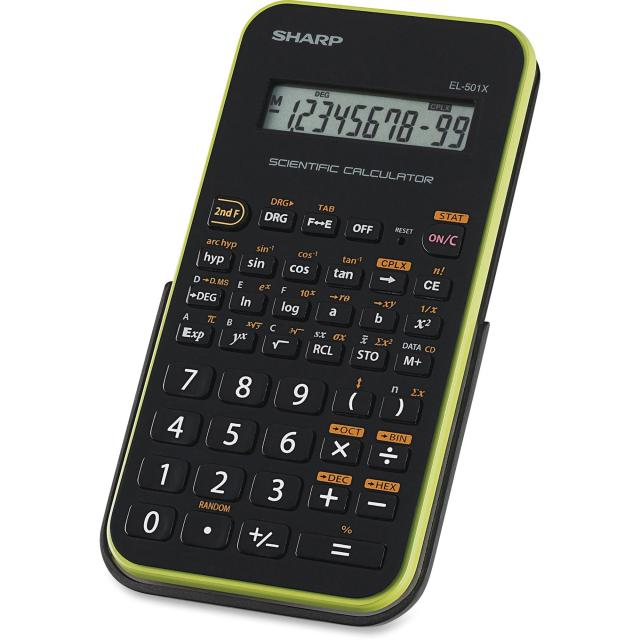Calculator: (83, 0, 576, 632)
